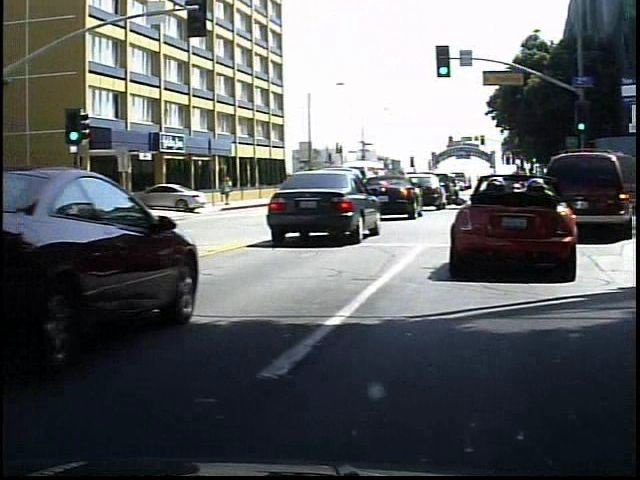person: (213, 171, 232, 207)
